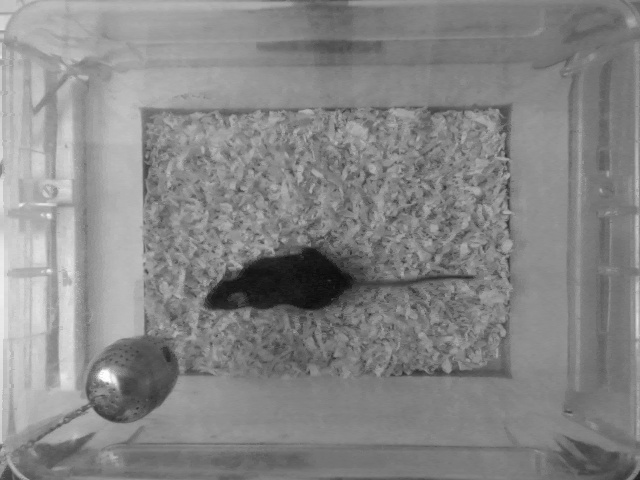mice: (201, 247, 481, 316)
